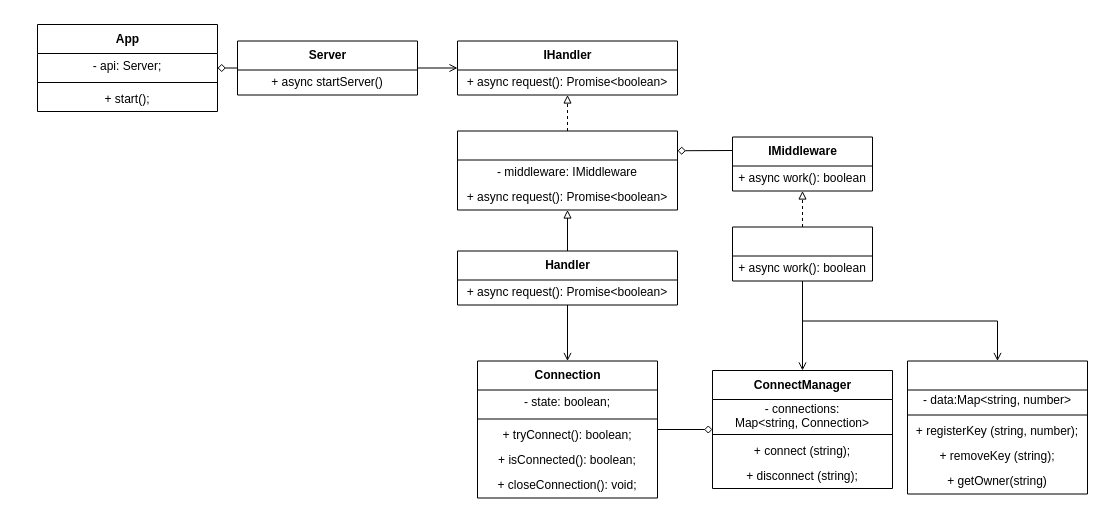
The diagram is 1114 pixels wide and 524 high, and some of its shapes have lost their labels. The box of each missing label's shape, as (x1, y1, x2, y2) in pixels:
BaseHandler: (456, 130, 678, 210)
KeyChecker: (906, 360, 1088, 494)
Middleware: (732, 226, 872, 281)
